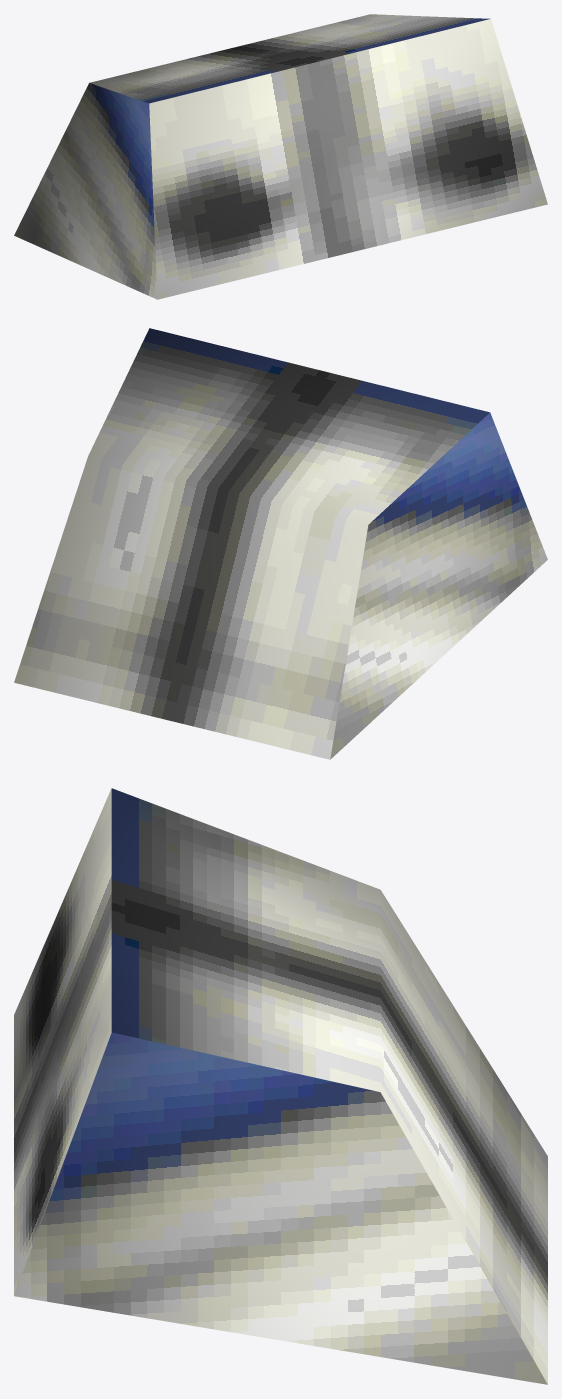
3 views of the same model, one above another, from view 1: azimuth 30°, elevation 25°; view 2: azimuth 150°, elevation 25°; view 3: azimuth 270°, elevation 25° (orthographic). The views are drawn at different scales.
Parts seen in each view (by area): view 1: MissileCarX_Skel_part01; view 2: MissileCarX_Skel_part01; view 3: MissileCarX_Skel_part01.
Part boxes in pixels (x1,y1,x2,y2): MissileCarX_Skel_part01: [14, 14, 547, 299]; MissileCarX_Skel_part01: [14, 328, 547, 759]; MissileCarX_Skel_part01: [14, 788, 547, 1384].
Size of the model in its own units: 4.97 by 2.98 by 3.99.
3 materials, 3 textured.
